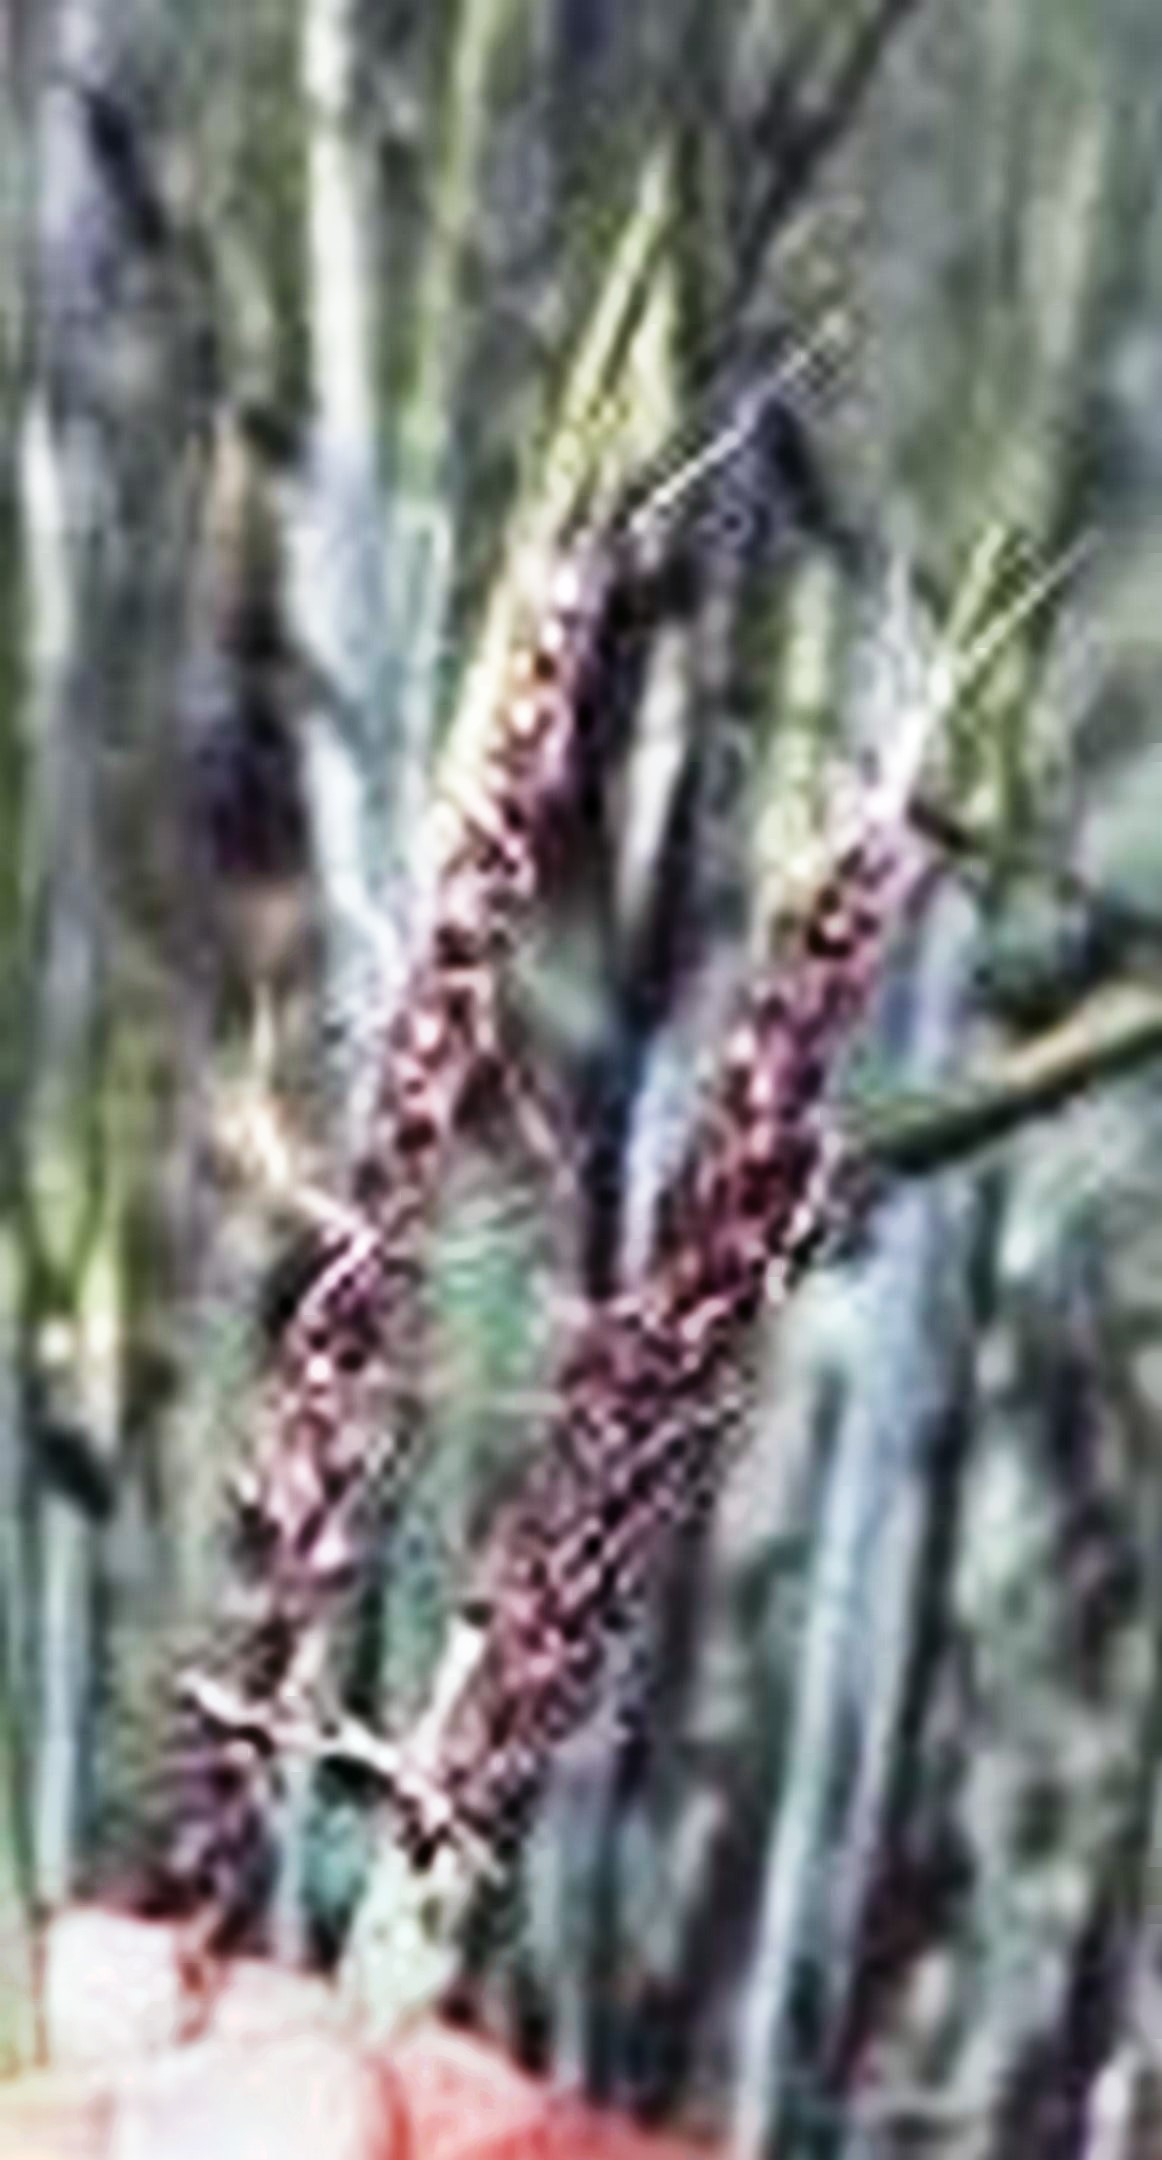Wheat Loose Smut: (419, 865, 929, 1880)
